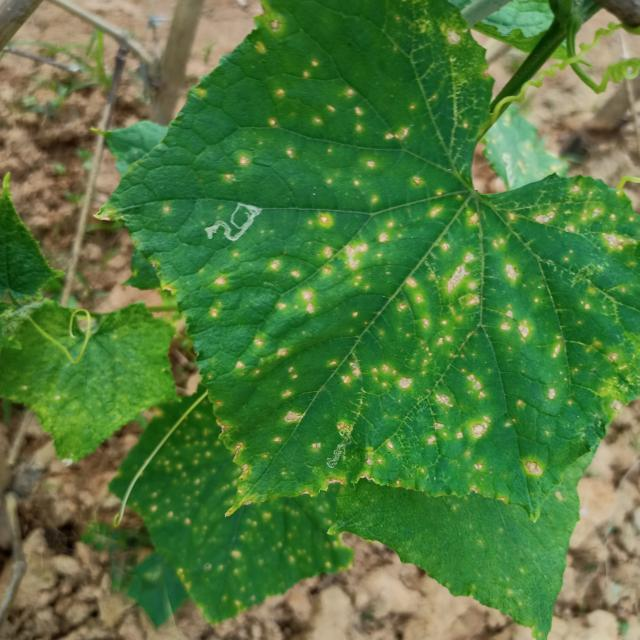disease_cucumber: (207, 34, 626, 500)
